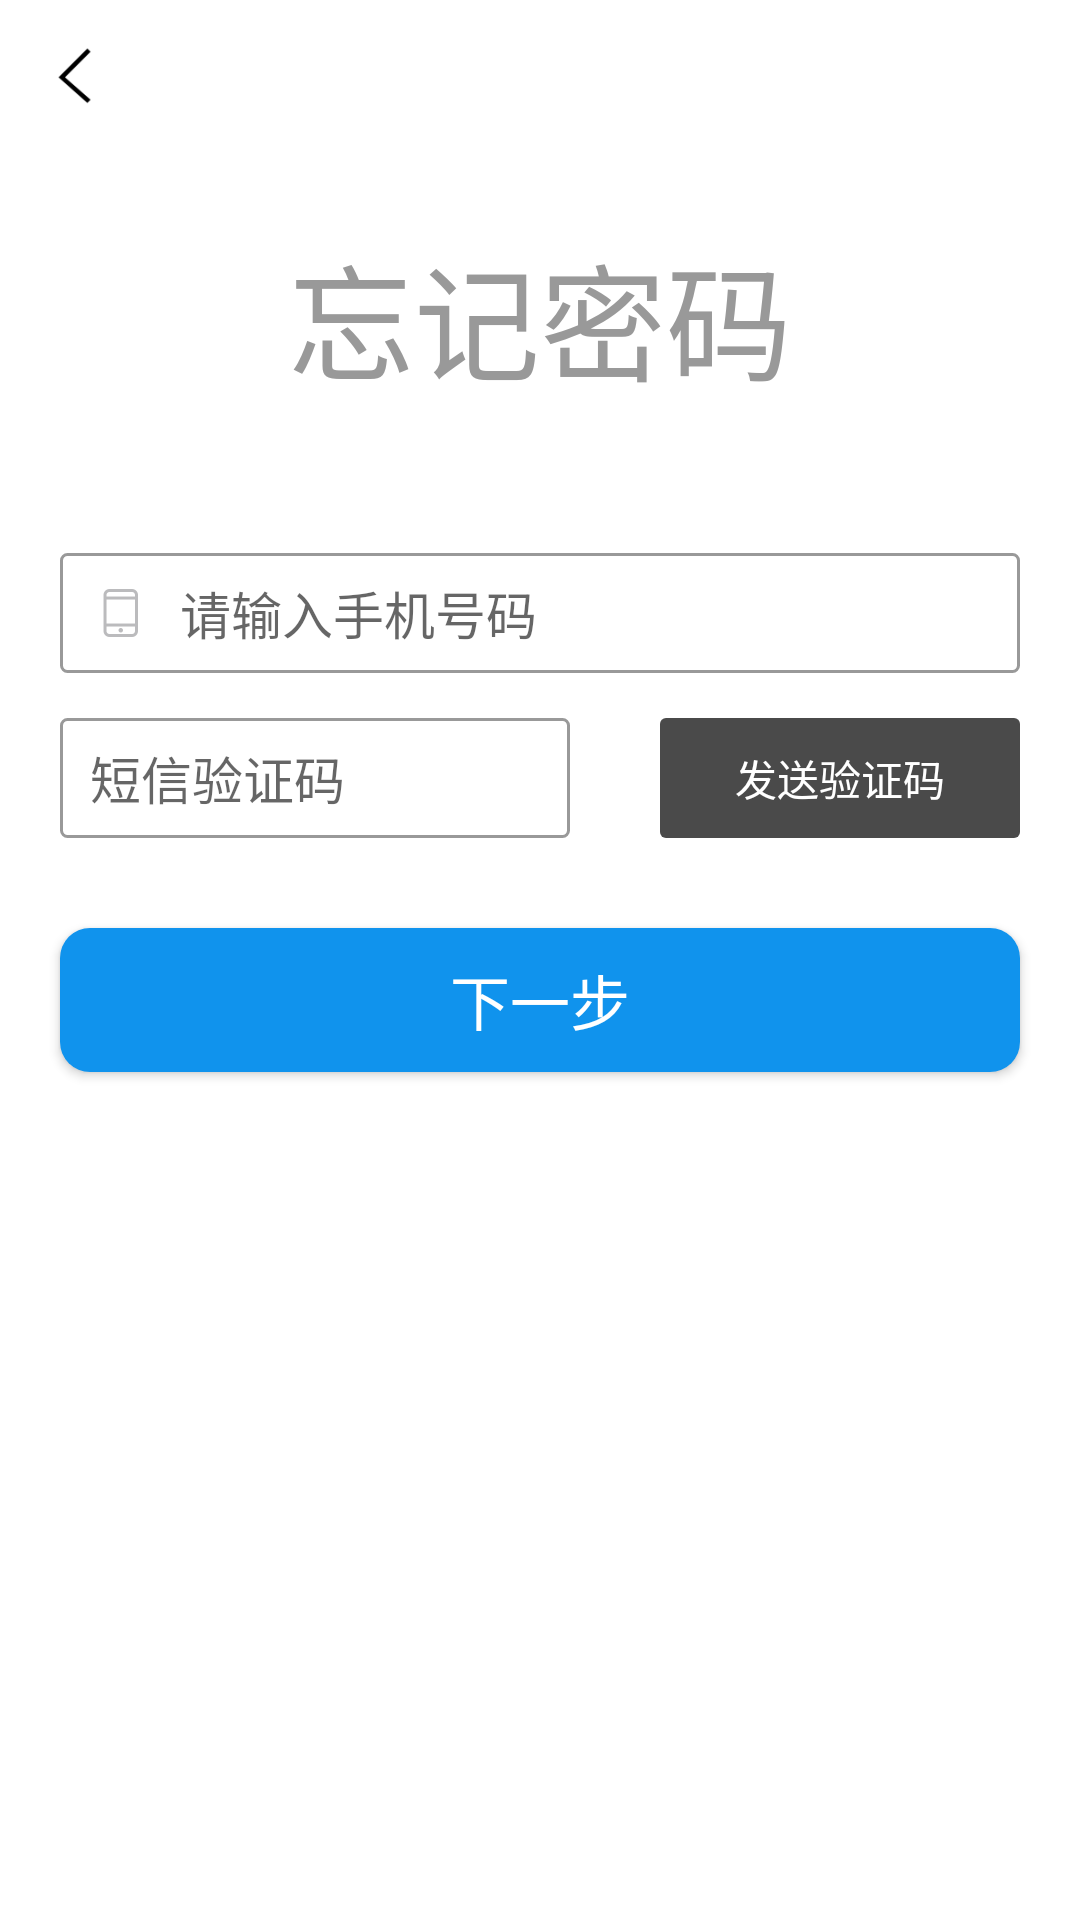

Locate icon controls on the screen. Image size 1080w x 1920h, boxes as (x1, y1, x2, y2).
fanhui: (58, 48, 91, 103)
login phone: (103, 589, 138, 637)
